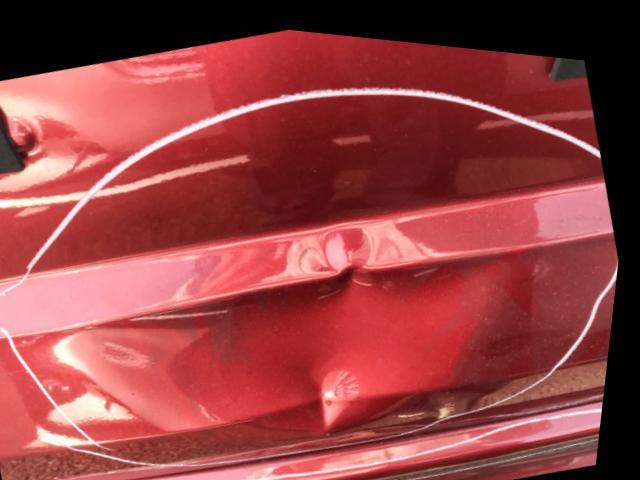dent: (66, 241, 496, 427), (327, 217, 379, 262)
